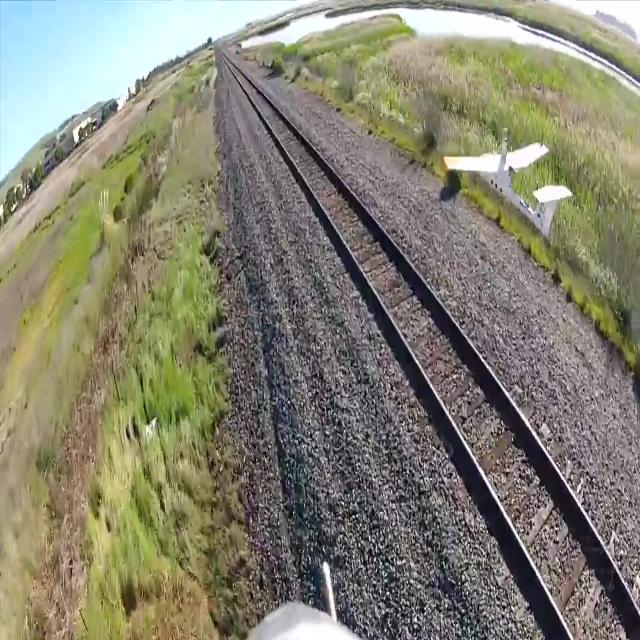iha: (442, 158, 570, 208)
